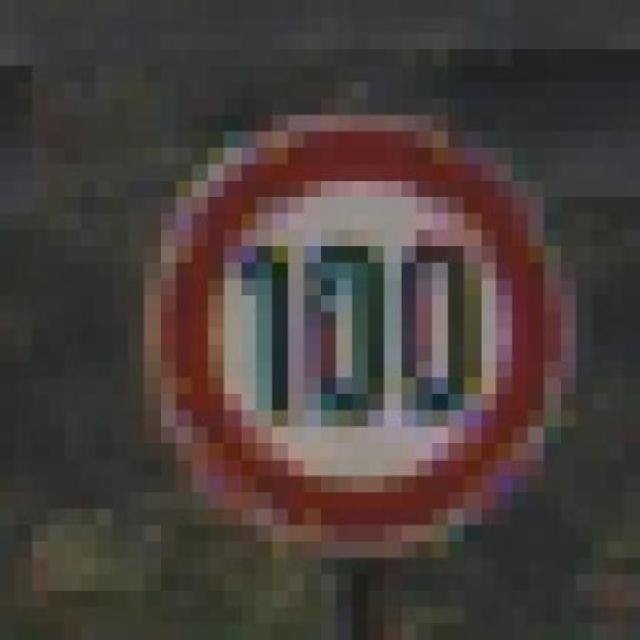forb_speed_over_100: (159, 122, 556, 546)
